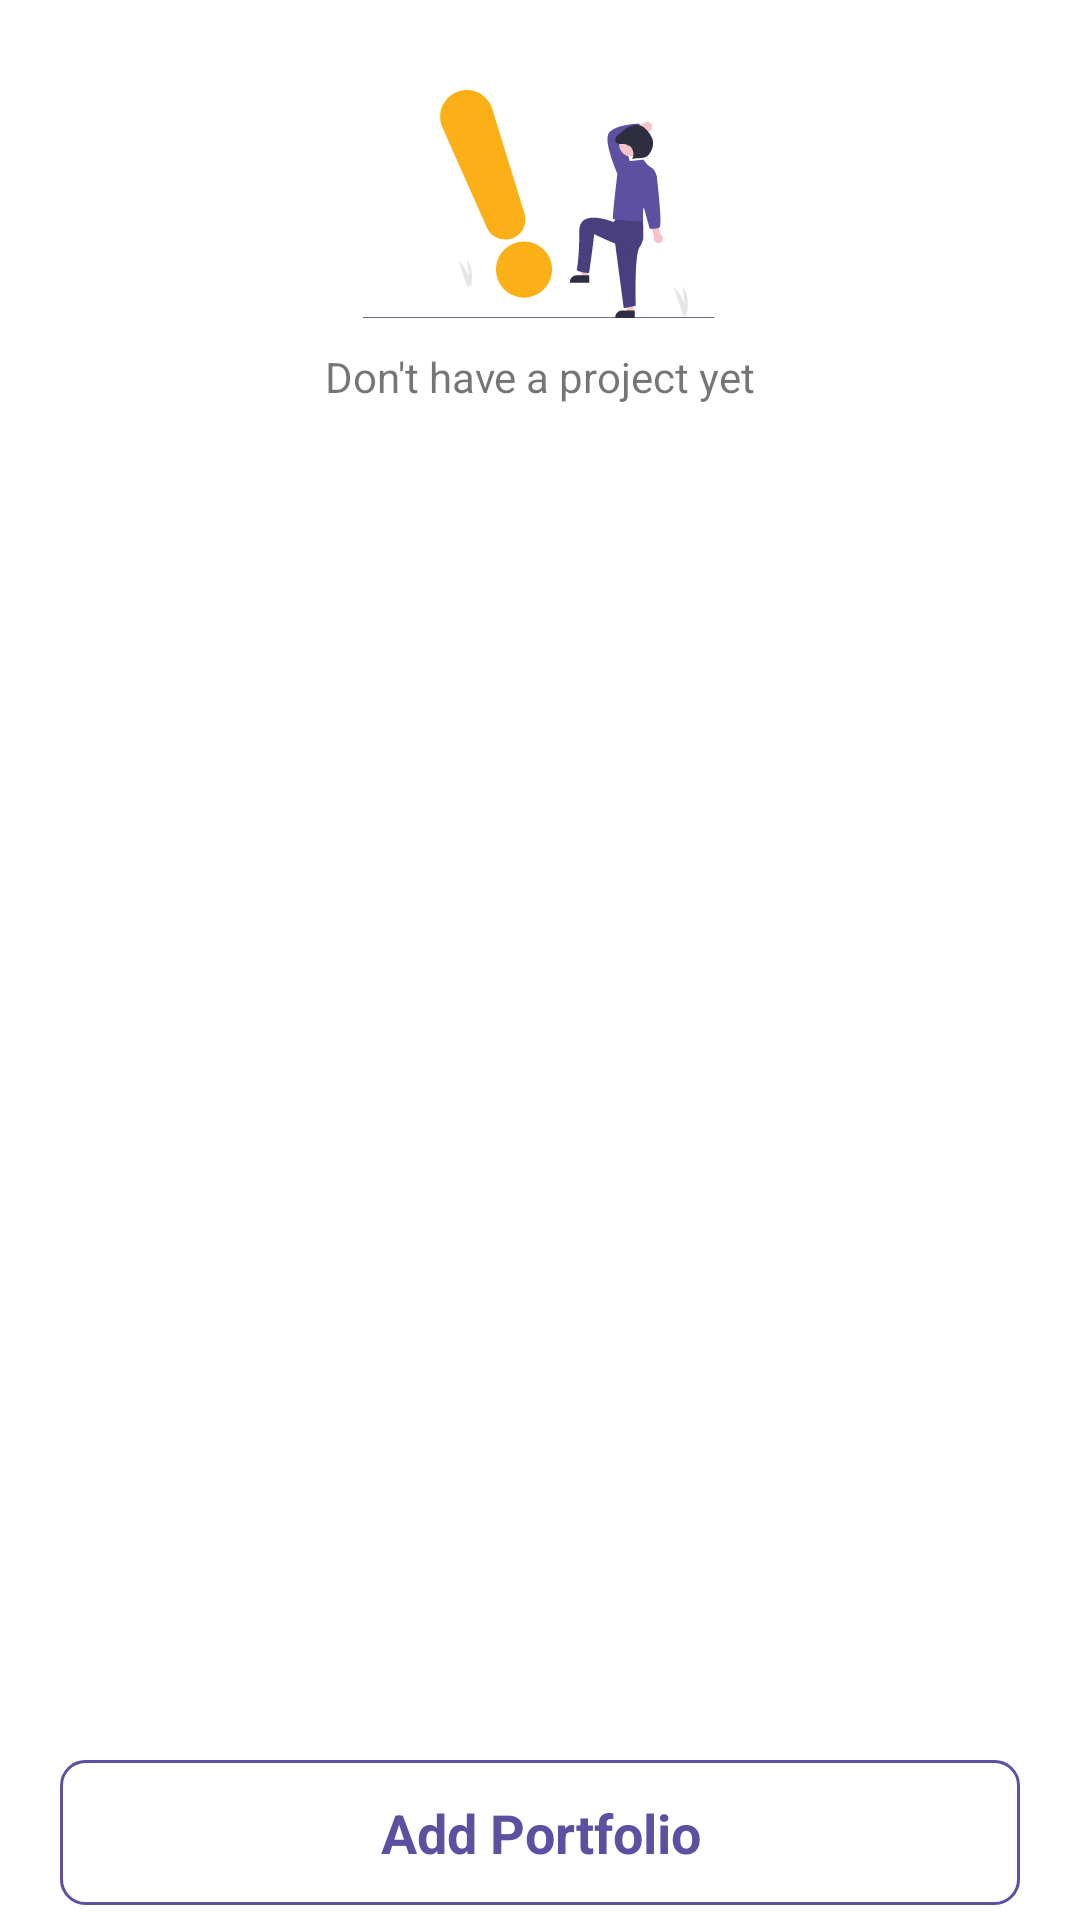

Locate icon controls on the screen. Image size 1080 x 1920, boxes as (x1, y1, x2, y2).
empty: (363, 90, 715, 318)
